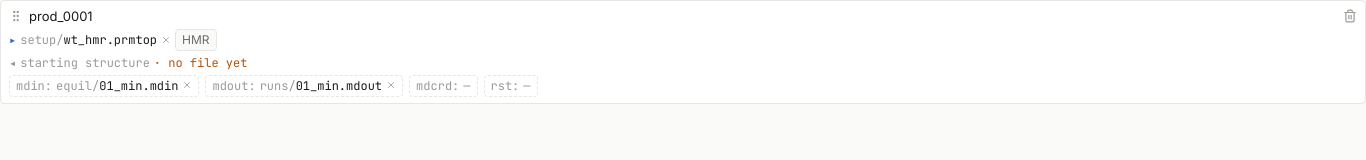
Scenario: abandons an in-place rename on Escape without touching the document
This screenshot has width=1366, height=160.
Double-click the button "prod_0001" at (61, 16), box x1=29 y1=7 x2=93 y2=25
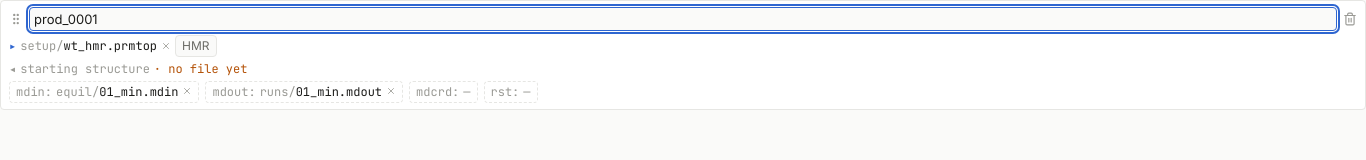
Replace the text in the field named "rename step prod_0001" with "discard me" at (683, 19), box x1=29 y1=7 x2=1337 y2=31
Then press Escape
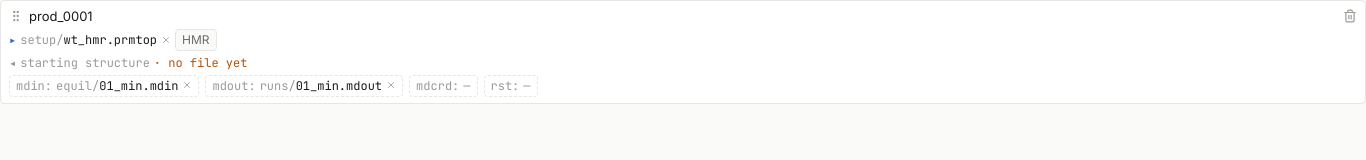
expect the button "prod_0001" is shown: met, box x1=29 y1=7 x2=93 y2=25
